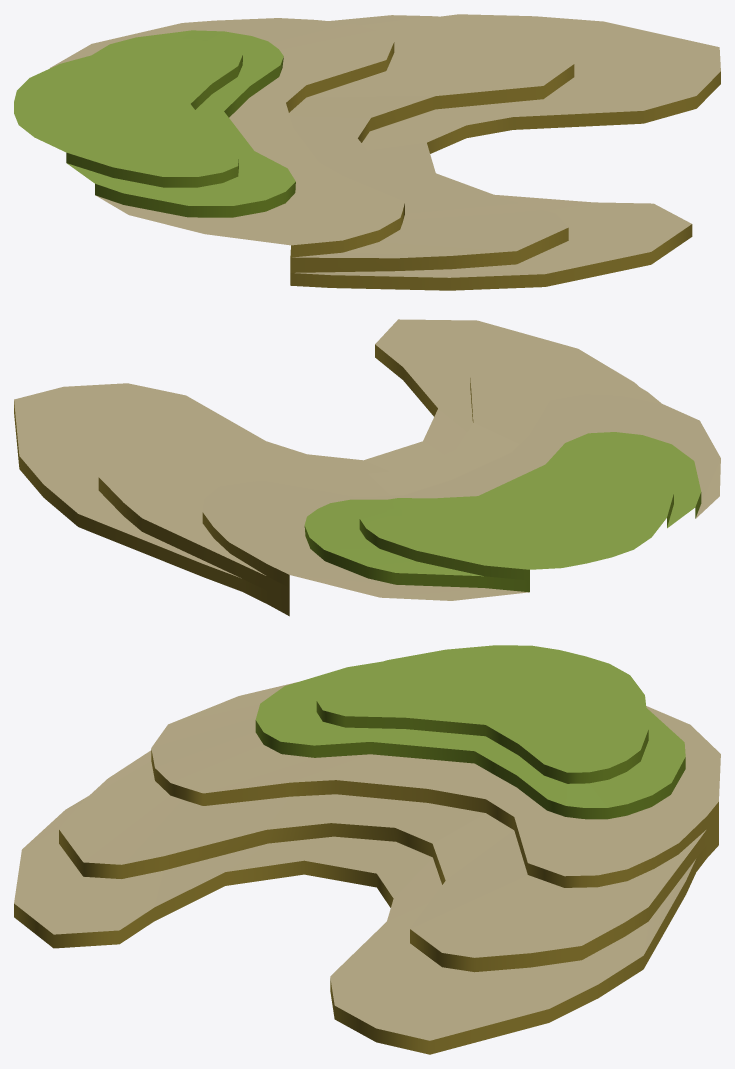
File: overworld base.fbx
3 renders of one model, top to bottom at view 1: azimuth 30°, elevation 25°; view 2: azimuth 150°, elevation 25°; view 3: azimuth 270°, elevation 25°, orthographic. The views are drawn at different scales.
Parts seen in each view (by area): view 1: pDisc1; view 2: pDisc1; view 3: pDisc1.
Part boxes in pixels (bbox=[...]): pDisc1: bbox=[14, 14, 720, 290]; pDisc1: bbox=[14, 319, 720, 616]; pDisc1: bbox=[14, 645, 720, 1054].
Bounding box in the file's own units: 18.02 × 1.67 × 15.61.
